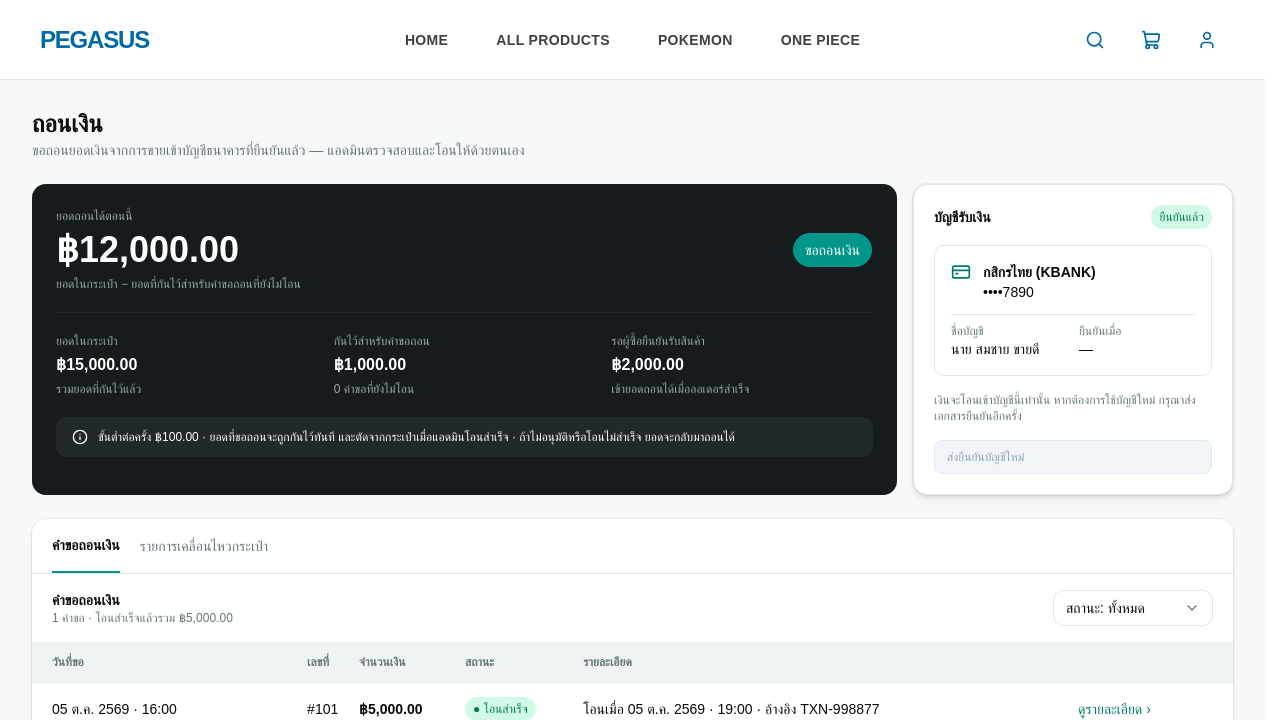
Test: Core Finance & Payout Flow › submits a payout request successfully
Click the button "ขอถอนเงิน": [833, 250] box [792,232,873,268]
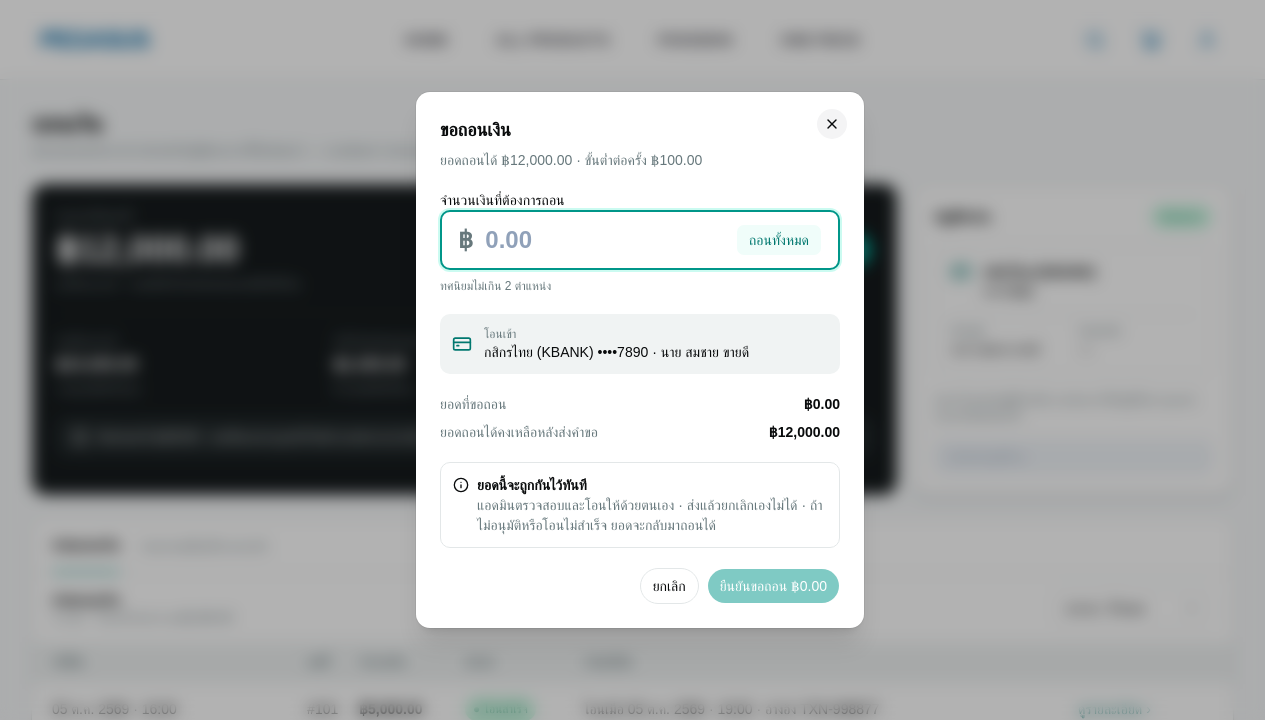
In the field named "จำนวนเงินที่ต้องการถอน": [605, 240] box [473,212,736,268], type "2500"
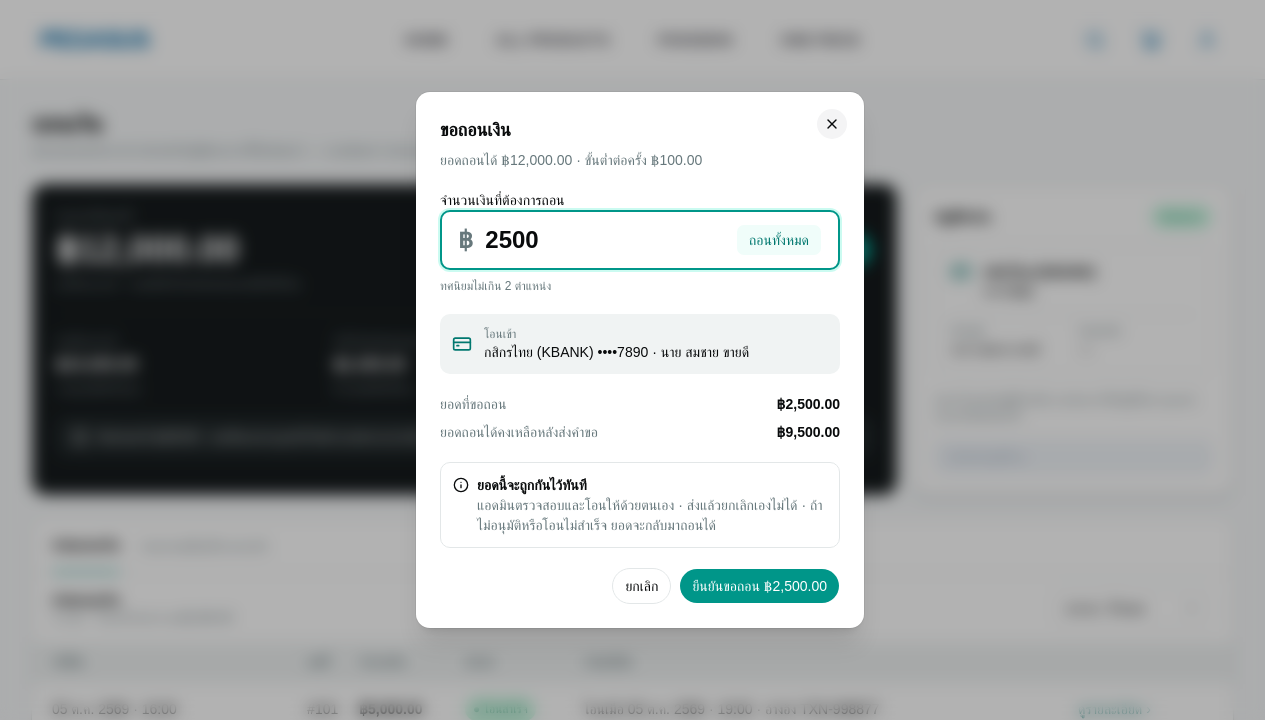
Click the button "ยืนยันขอถอน ฿2,500.00": [760, 586] box [679,568,840,604]
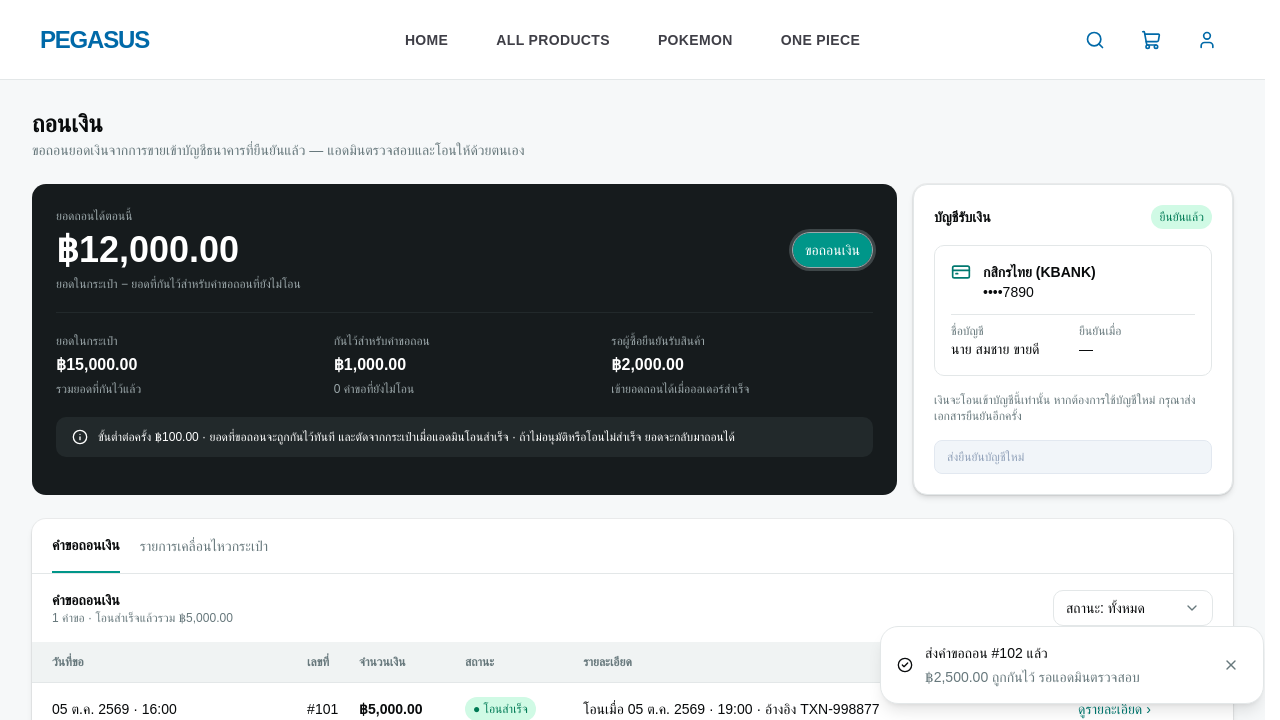
Result: the heading "ส่งคำขอถอน #102 แล้ว" is shown at [925,645,1048,661]
